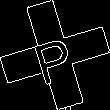P_N: (30, 26, 80, 84)
